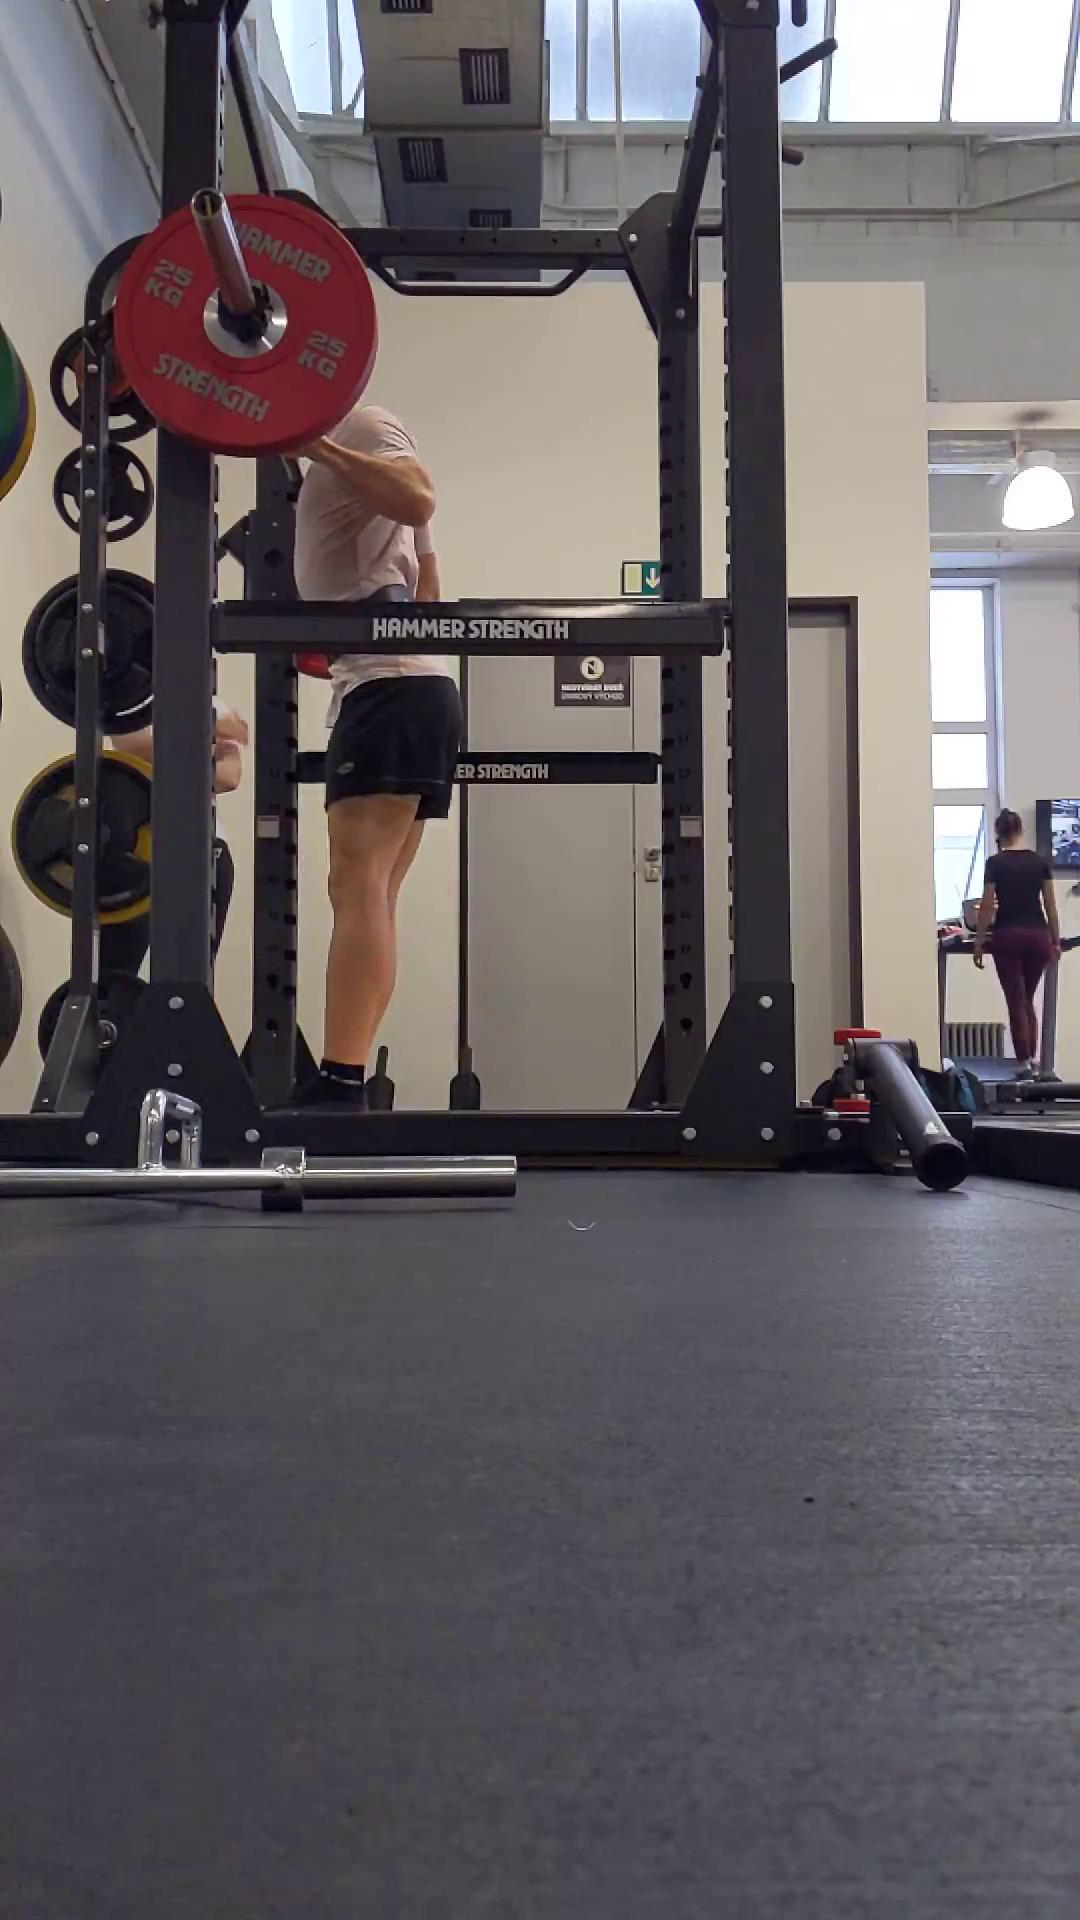barbell: (113, 193, 377, 448)
